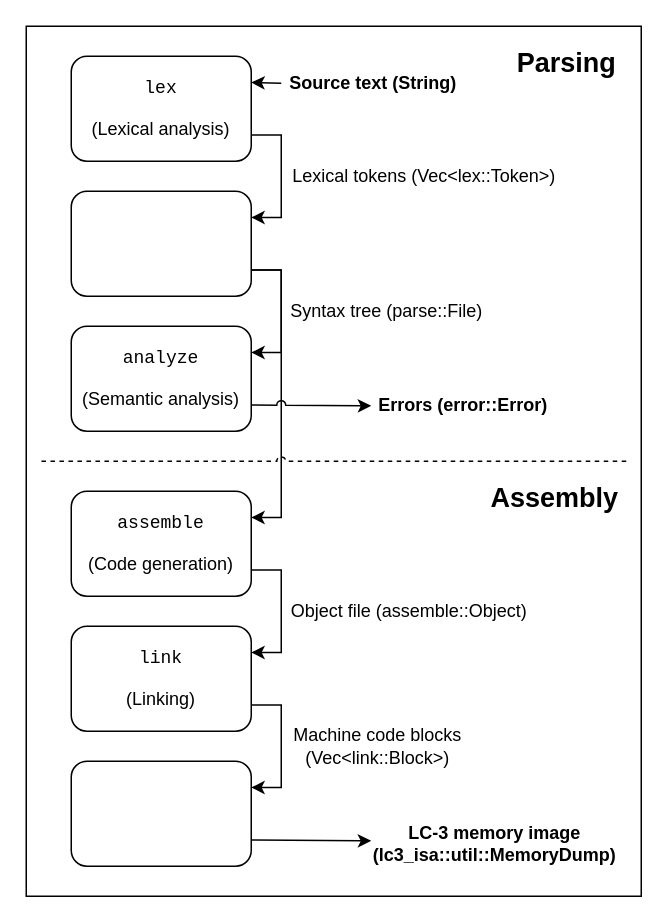
The diagram is 668 pixels wide and 923 high, and some of its shapes have lost their labels. The shapes that lost their labels are listed below. From the top down, each one's box as (x1, y1, x2, y2) in pixels, then its label:
(70, 190, 251, 296): parse (Syntactic analysis)
(70, 760, 251, 866): layer ("Pre-loading")
